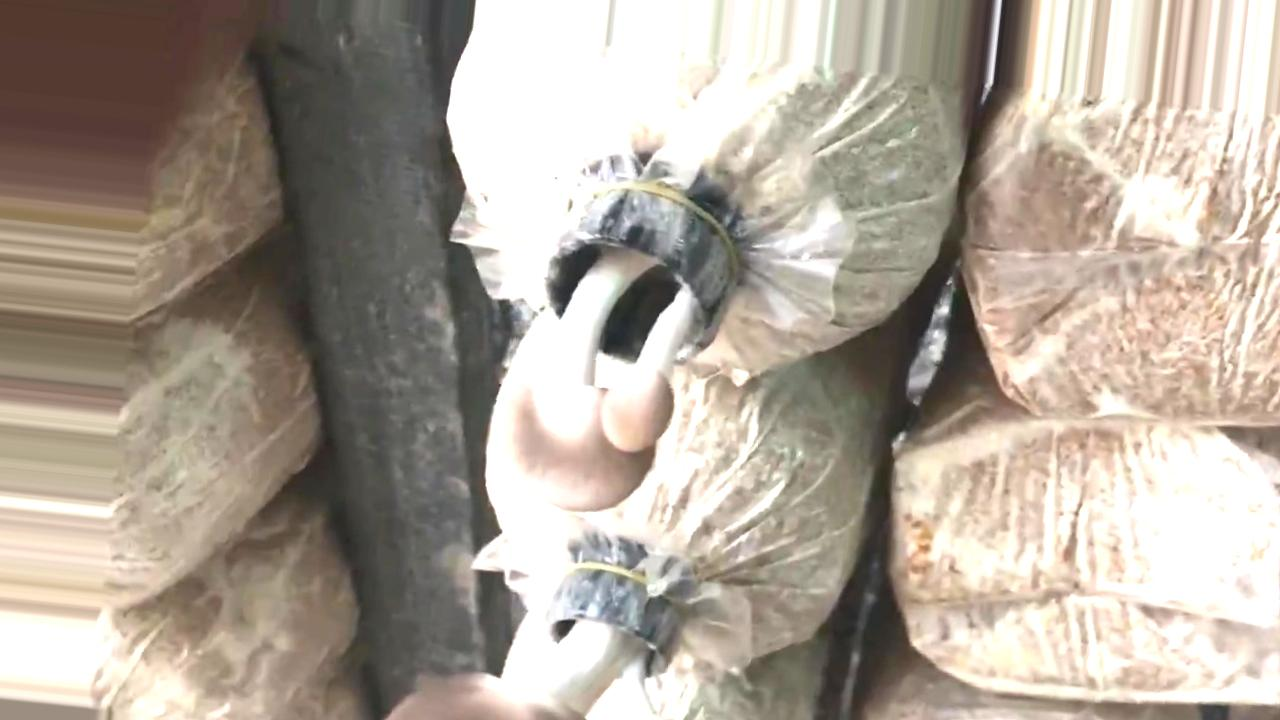nam: (514, 182, 735, 510), (391, 567, 689, 720)
